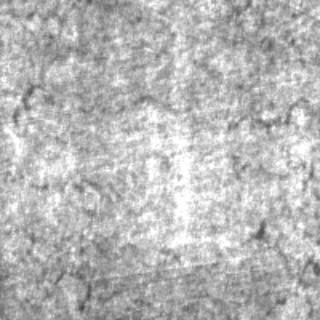crazing: (2, 82, 312, 218), (6, 221, 318, 317)
